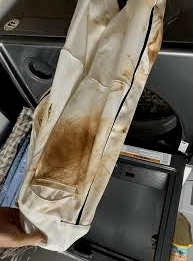earth: (51, 132, 91, 170), (148, 51, 155, 62)
